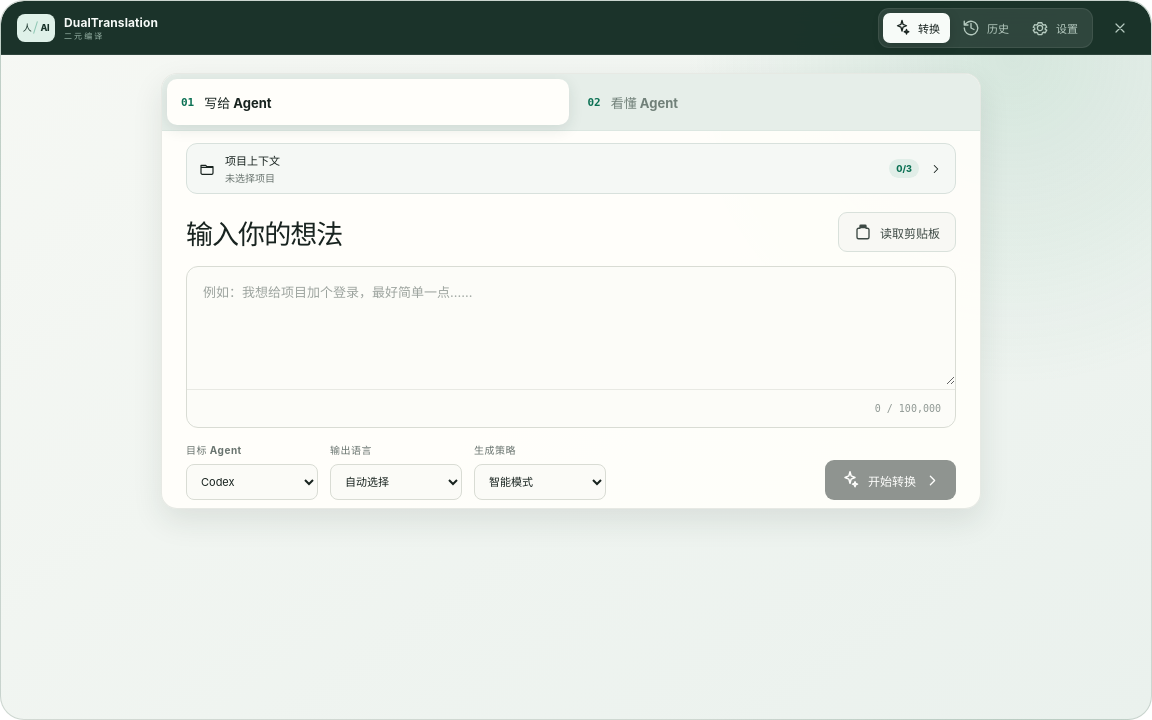
DualTranslation main flow › never reads the clipboard before an explicit button click
Click the button "读取剪贴板" at (897, 232), box [838,212,956,252]
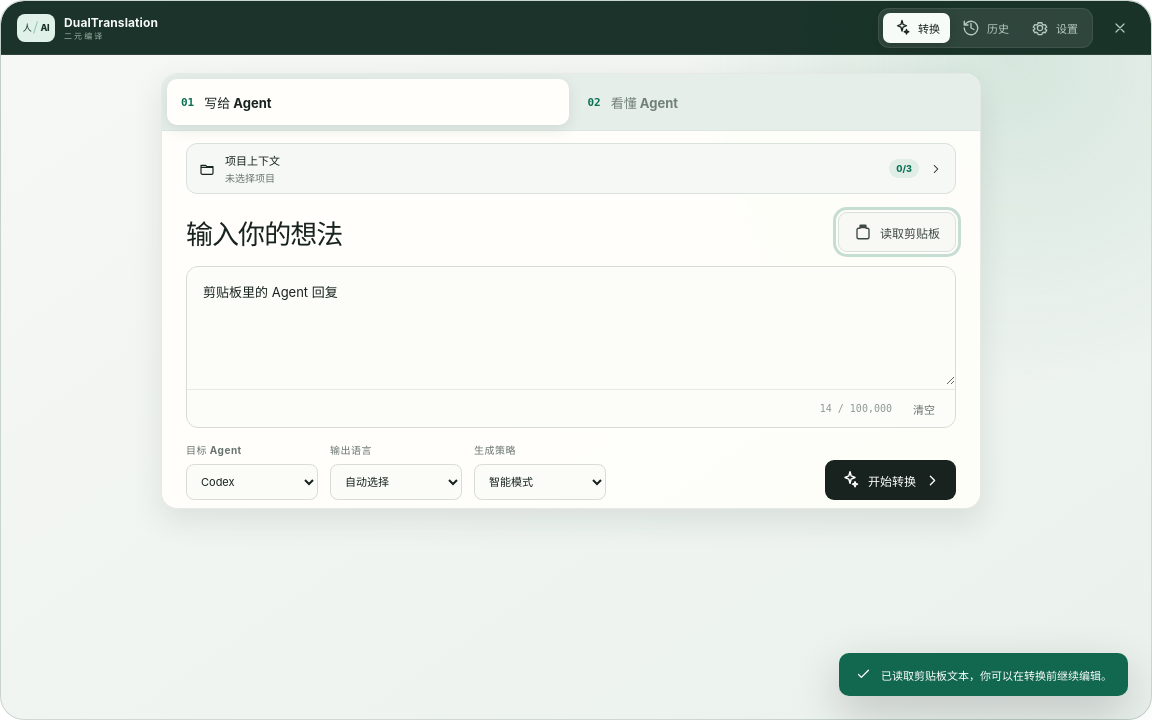
Check: the text box named "描述你的想法" holds "剪贴板里的 Agent 回复", box [187,267,955,385]
